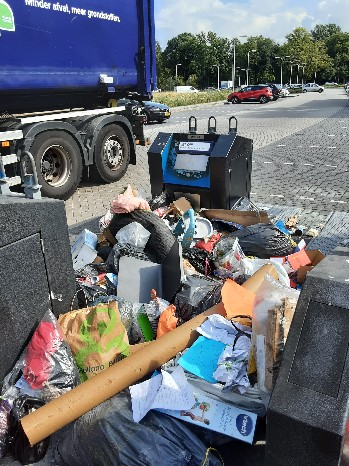Container: (148, 120, 245, 204)
Rest: (90, 322, 246, 449), (26, 347, 185, 466), (166, 290, 276, 380), (80, 281, 176, 365), (89, 213, 177, 285), (185, 206, 263, 286), (274, 220, 325, 284), (113, 192, 144, 213)
Voertuig: (0, 0, 133, 179), (220, 80, 276, 108), (294, 79, 331, 96)
